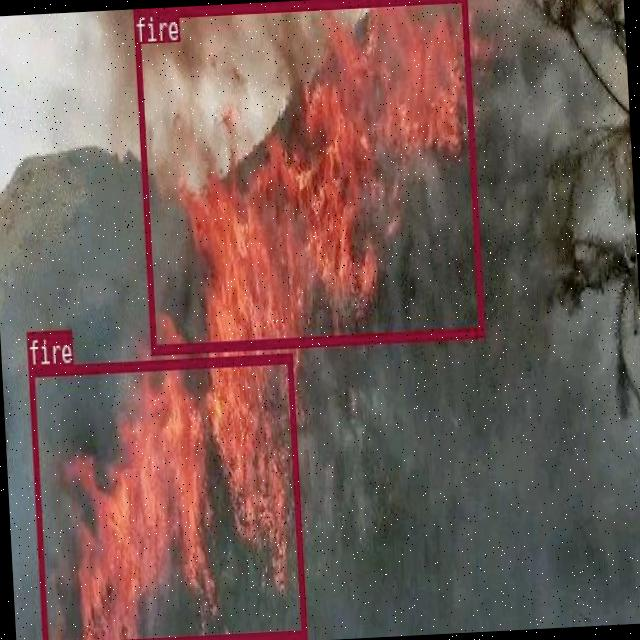fire: (133, 0, 484, 354), (27, 353, 306, 640)
